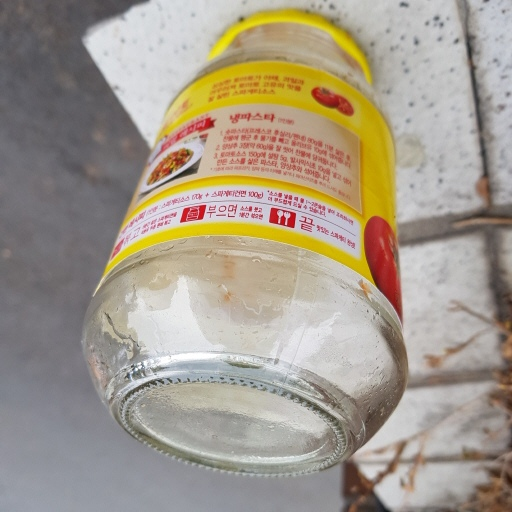Glass_5: (79, 13, 411, 473)
